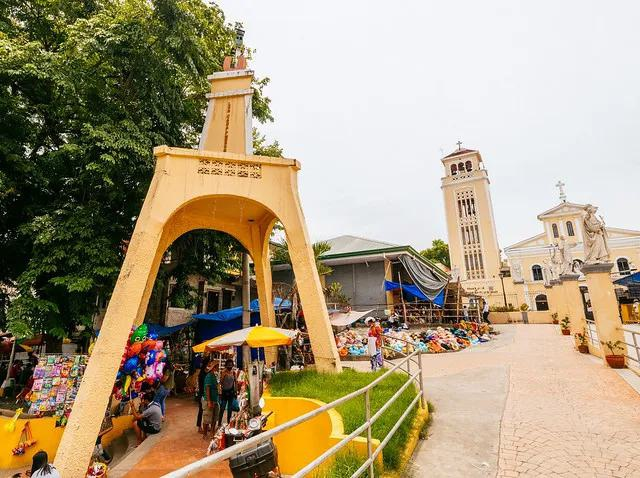manaoag_church_manaoag_pangasinan: (436, 132, 640, 325)
